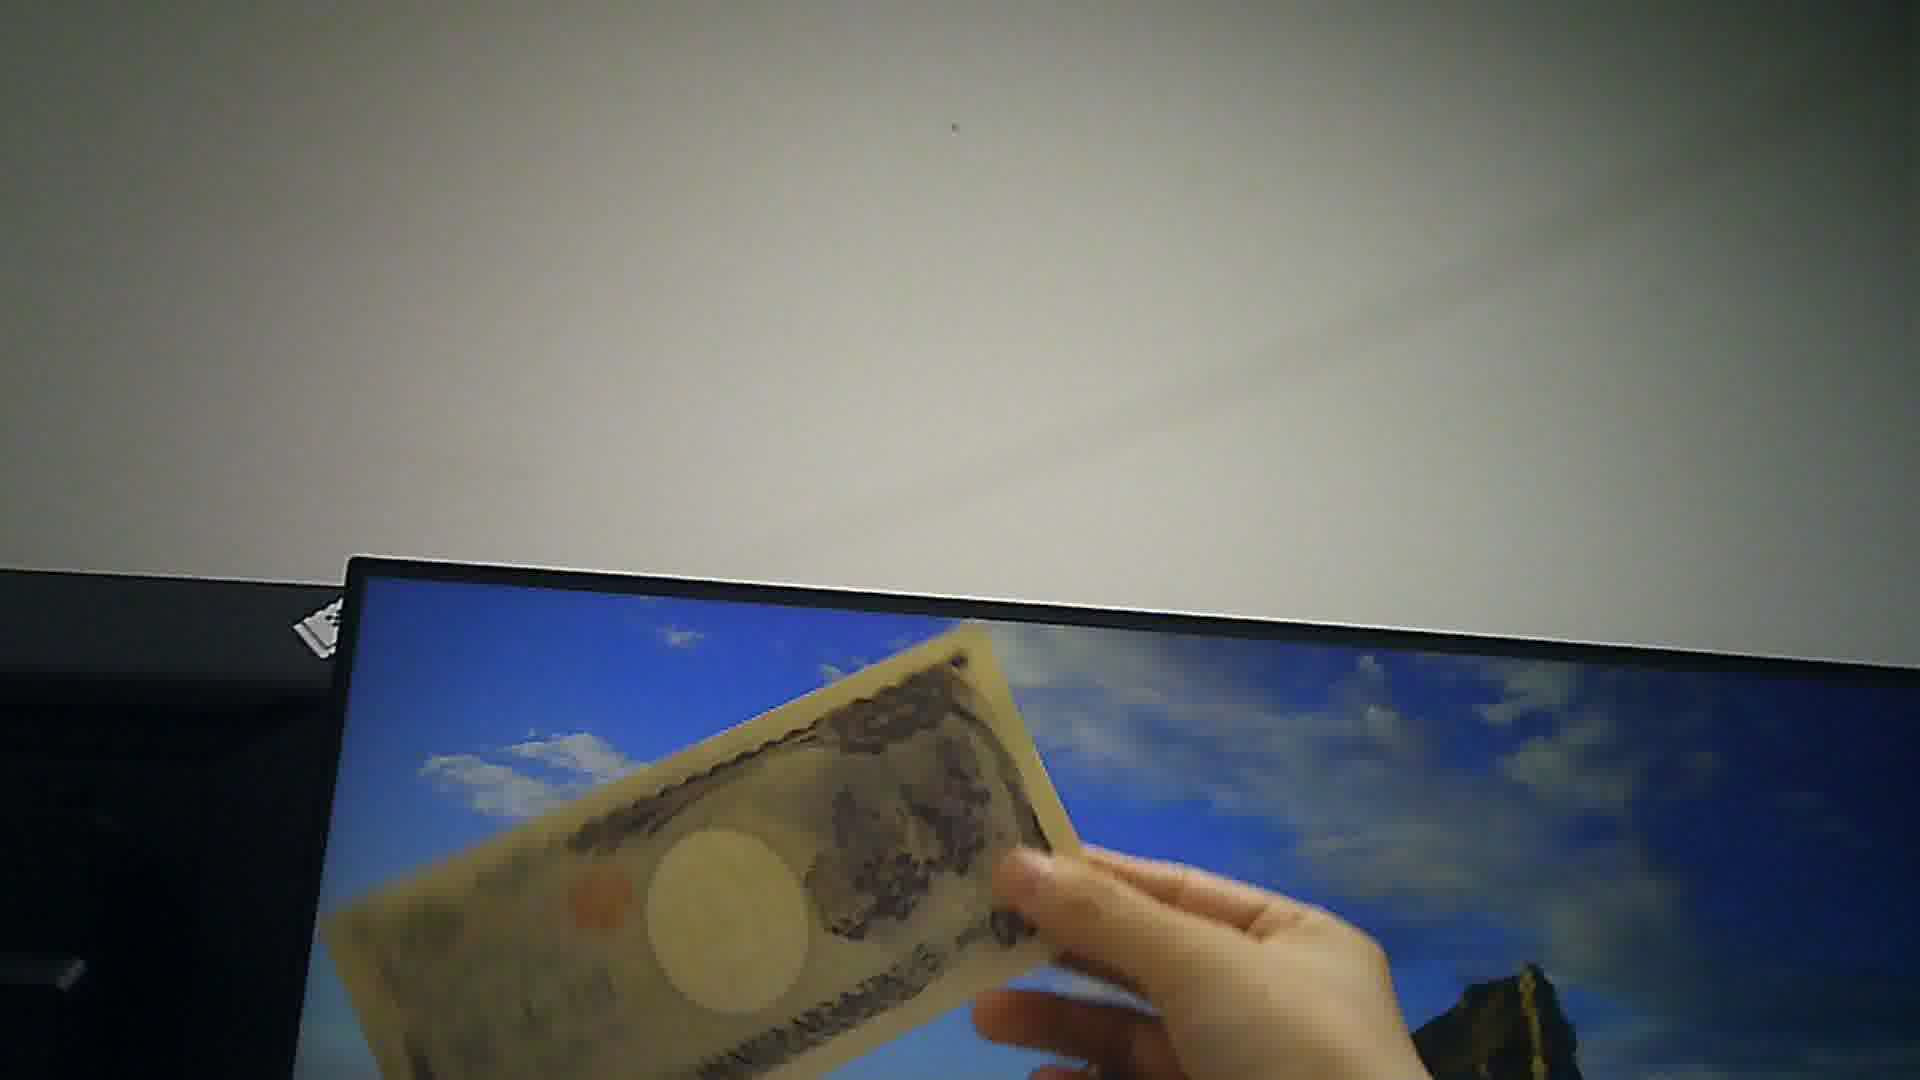5,000 Yen: (323, 621, 1135, 1079)
